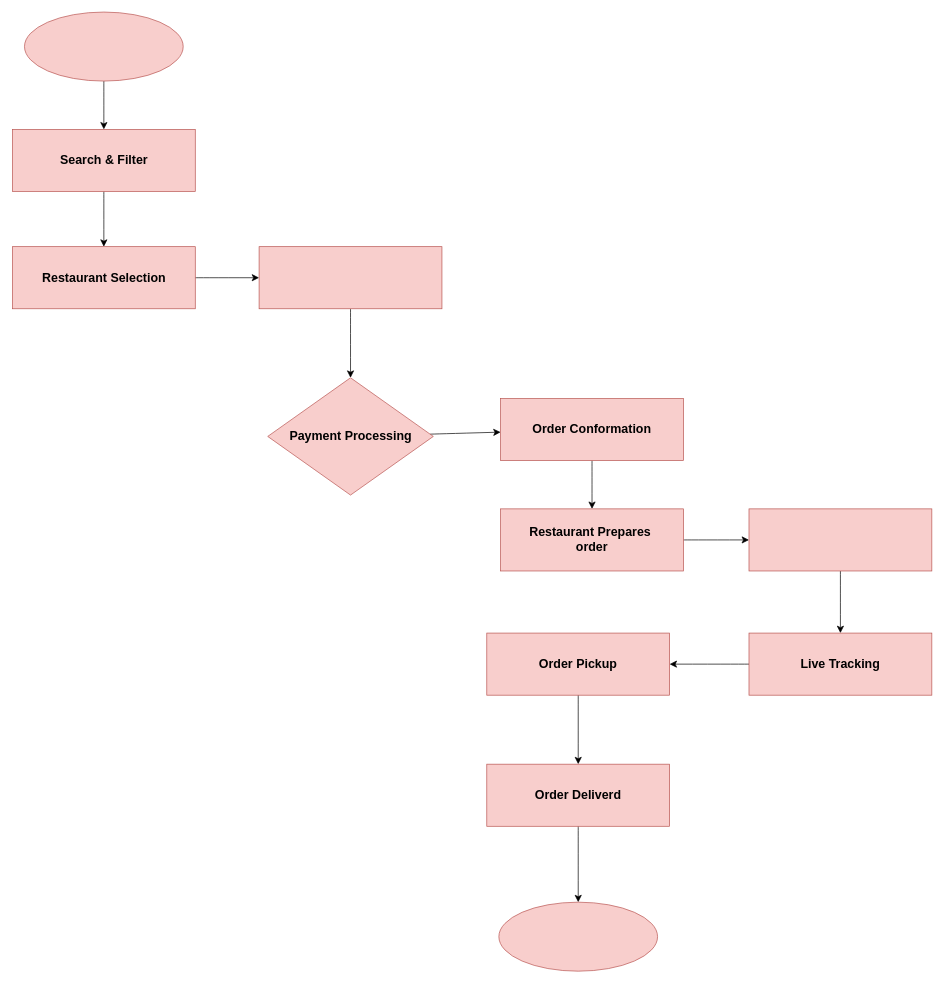
Image size: 944x983. Some labels were removed from this diagram. Here are the shapes that lost their labels. From the top down, the centre of each, then its label:
At point 103,46: "User Browser App".
At point 350,277: "Adds Item to Cart".
At point 840,539: "Delivery Partner Assigned".
At point 578,936: "Rating & Feedbacck".
